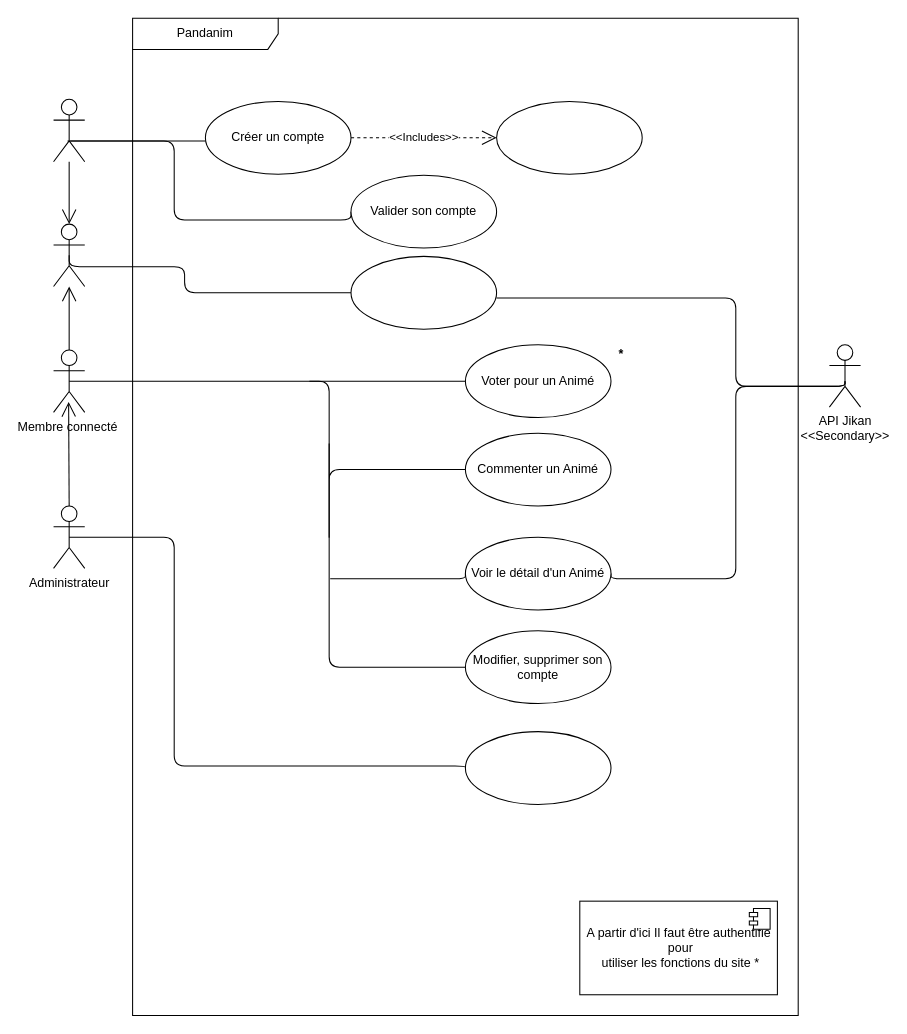
Image size: 907x1034. Some labels were removed from this diagram. Here are the shapes that lost their labels. From the top down, the centre of each, then its label:
At [69,130]: "Futur membre".
At [569,137]: "Envoyer une confirmation par mail".
At [69,255]: "Visiteur".
At [423,292]: "Parcourir, filtrer les Animés".
At [537,767]: "Gérer les actions des membres".
